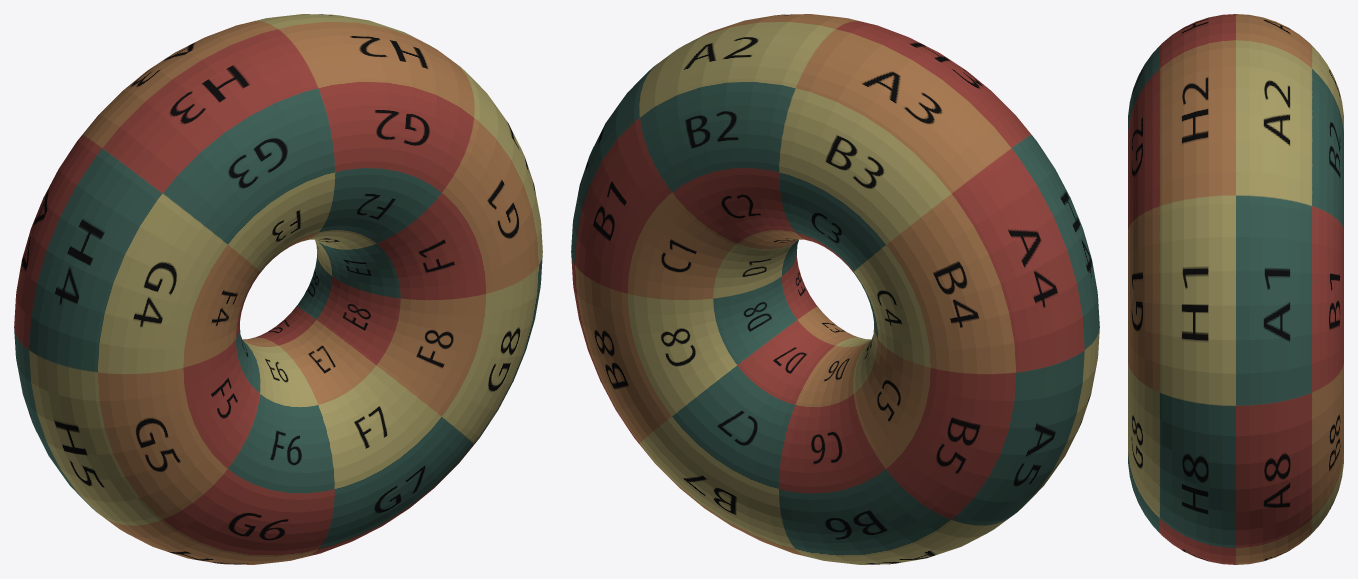
The model's file is texture_torus_R7_r28.glb.
3 views of the same model, side by side, from view 1: azimuth 30°, elevation 25°; view 2: azimuth 150°, elevation 25°; view 3: azimuth 270°, elevation 25° (orthographic). The views are drawn at different scales.
Visible parts, largest first — view 1: world; view 2: world; view 3: world.
Part boxes in pixels (left/top/right/bottom): world: left=14, top=14, right=542, bottom=564; world: left=571, top=14, right=1099, bottom=564; world: left=1128, top=14, right=1343, bottom=564.
Bounding box in the file's own units: 24.13 × 24.09 × 9.45.
1 material, 1 textured.
